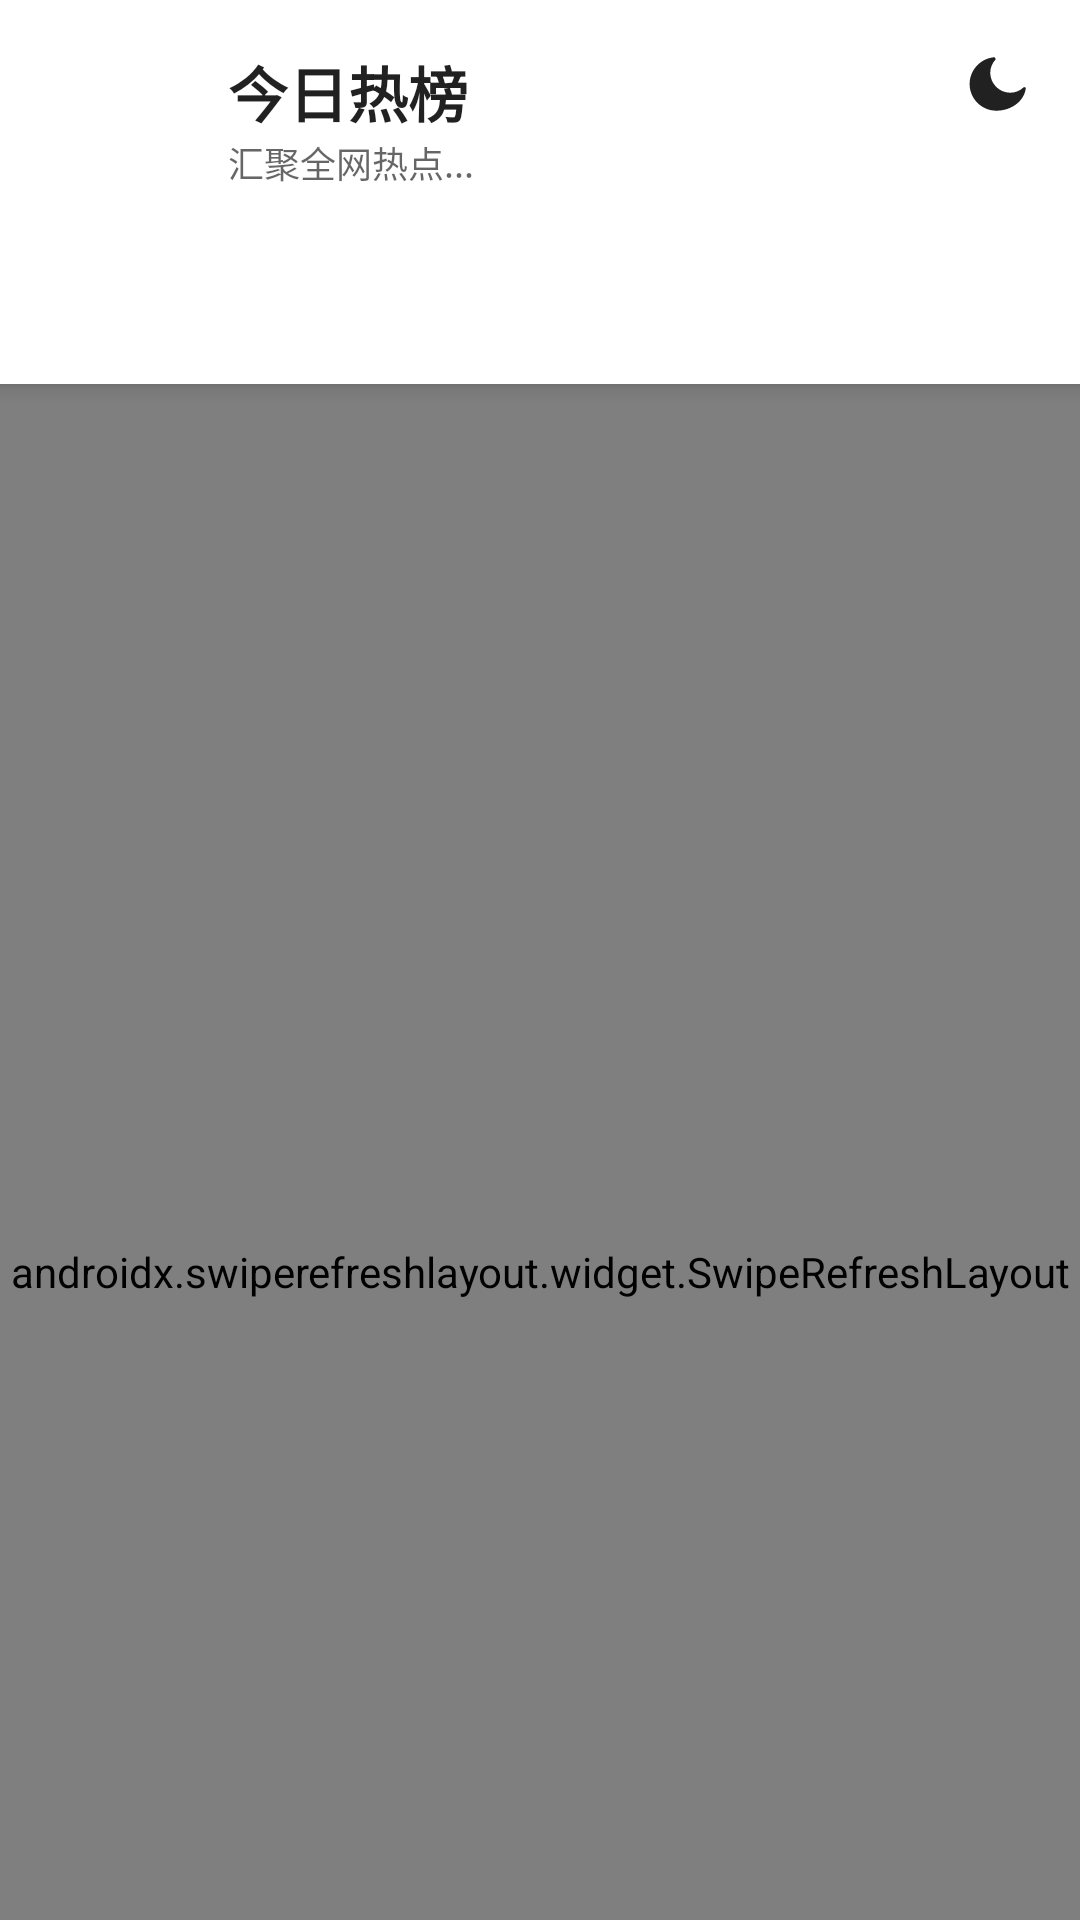

Screen size 1080px×1920px. Icon name, then its box in pixels as (x1, y1, x2, y2):
moon: (969, 57, 1026, 111)
